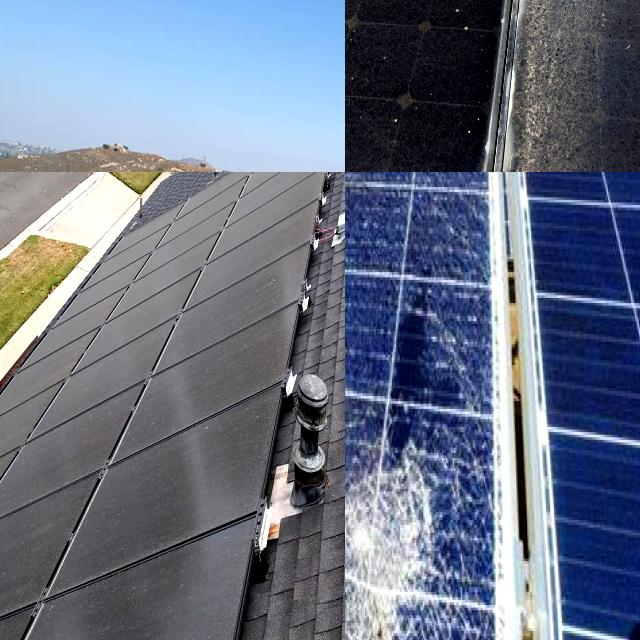dust: (345, 0, 495, 172), (526, 0, 640, 172), (116, 437, 235, 561), (345, 0, 518, 74), (188, 273, 286, 387), (0, 516, 57, 604), (68, 608, 199, 640)
hotspot: (345, 419, 442, 640), (345, 407, 381, 526)
